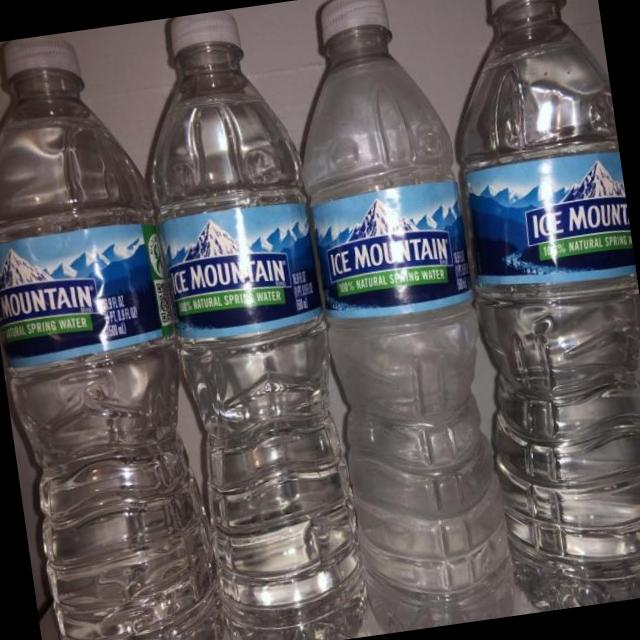plastic_bottle: (125, 2, 374, 640), (276, 0, 520, 636), (0, 22, 229, 640), (429, 0, 640, 615)
